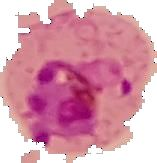parasitized: (20, 31, 152, 149), (26, 57, 136, 134)
